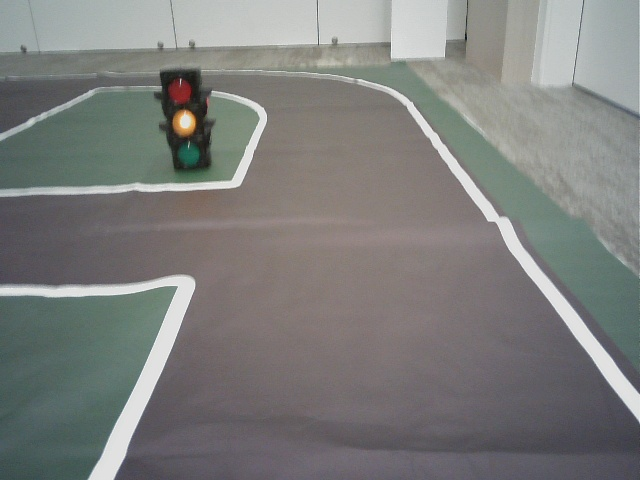yellow: (163, 72, 204, 170)
